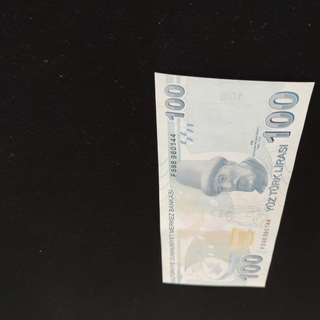100TLBack: (153, 71, 315, 288)
